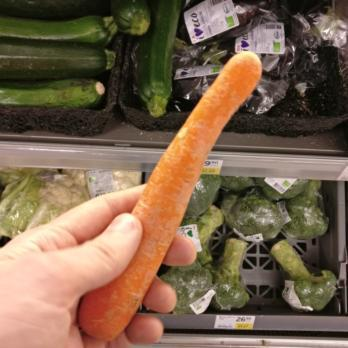Carrot: (70, 52, 265, 343)
